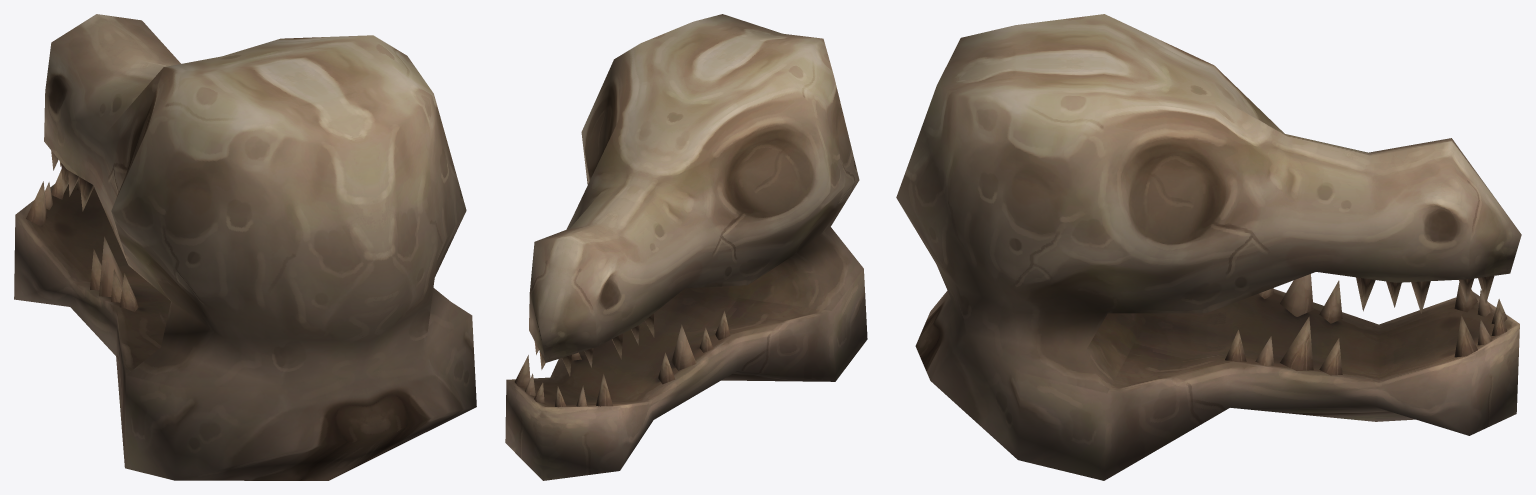
Rendered from dm_skull.fbx.
3 views of the same model, side by side, from view 1: azimuth 30°, elevation 25°; view 2: azimuth 150°, elevation 25°; view 3: azimuth 270°, elevation 25° (orthographic). The views are drawn at different scales.
Parts seen in each view (by area): view 1: dm_skull; view 2: dm_skull; view 3: dm_skull.
Boxes of the visible parts, x1,y1,x2,y2 form: dm_skull: (14,14,476,480); dm_skull: (505,14,867,480); dm_skull: (896,14,1521,480).
Size of the model in its own units: 1.91 by 2.33 by 3.45.
